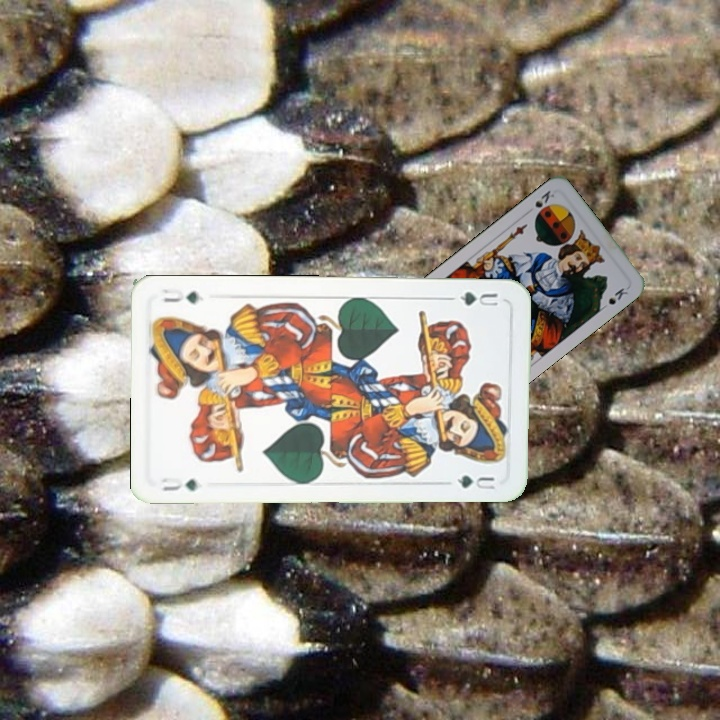GU: (446, 288, 501, 309), (157, 473, 200, 493)
SK: (531, 186, 557, 218)
